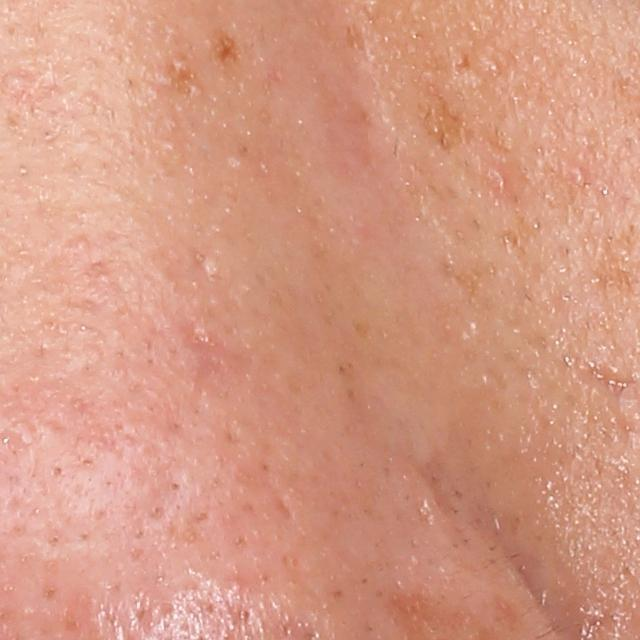atrophic_scar: (548, 127, 634, 210), (174, 312, 231, 400), (127, 587, 175, 634), (271, 484, 296, 526), (190, 248, 220, 281)
comedo: (0, 72, 24, 94)
melasma: (409, 78, 480, 169), (432, 248, 504, 302), (490, 209, 556, 266), (146, 51, 204, 97), (213, 31, 242, 69)
